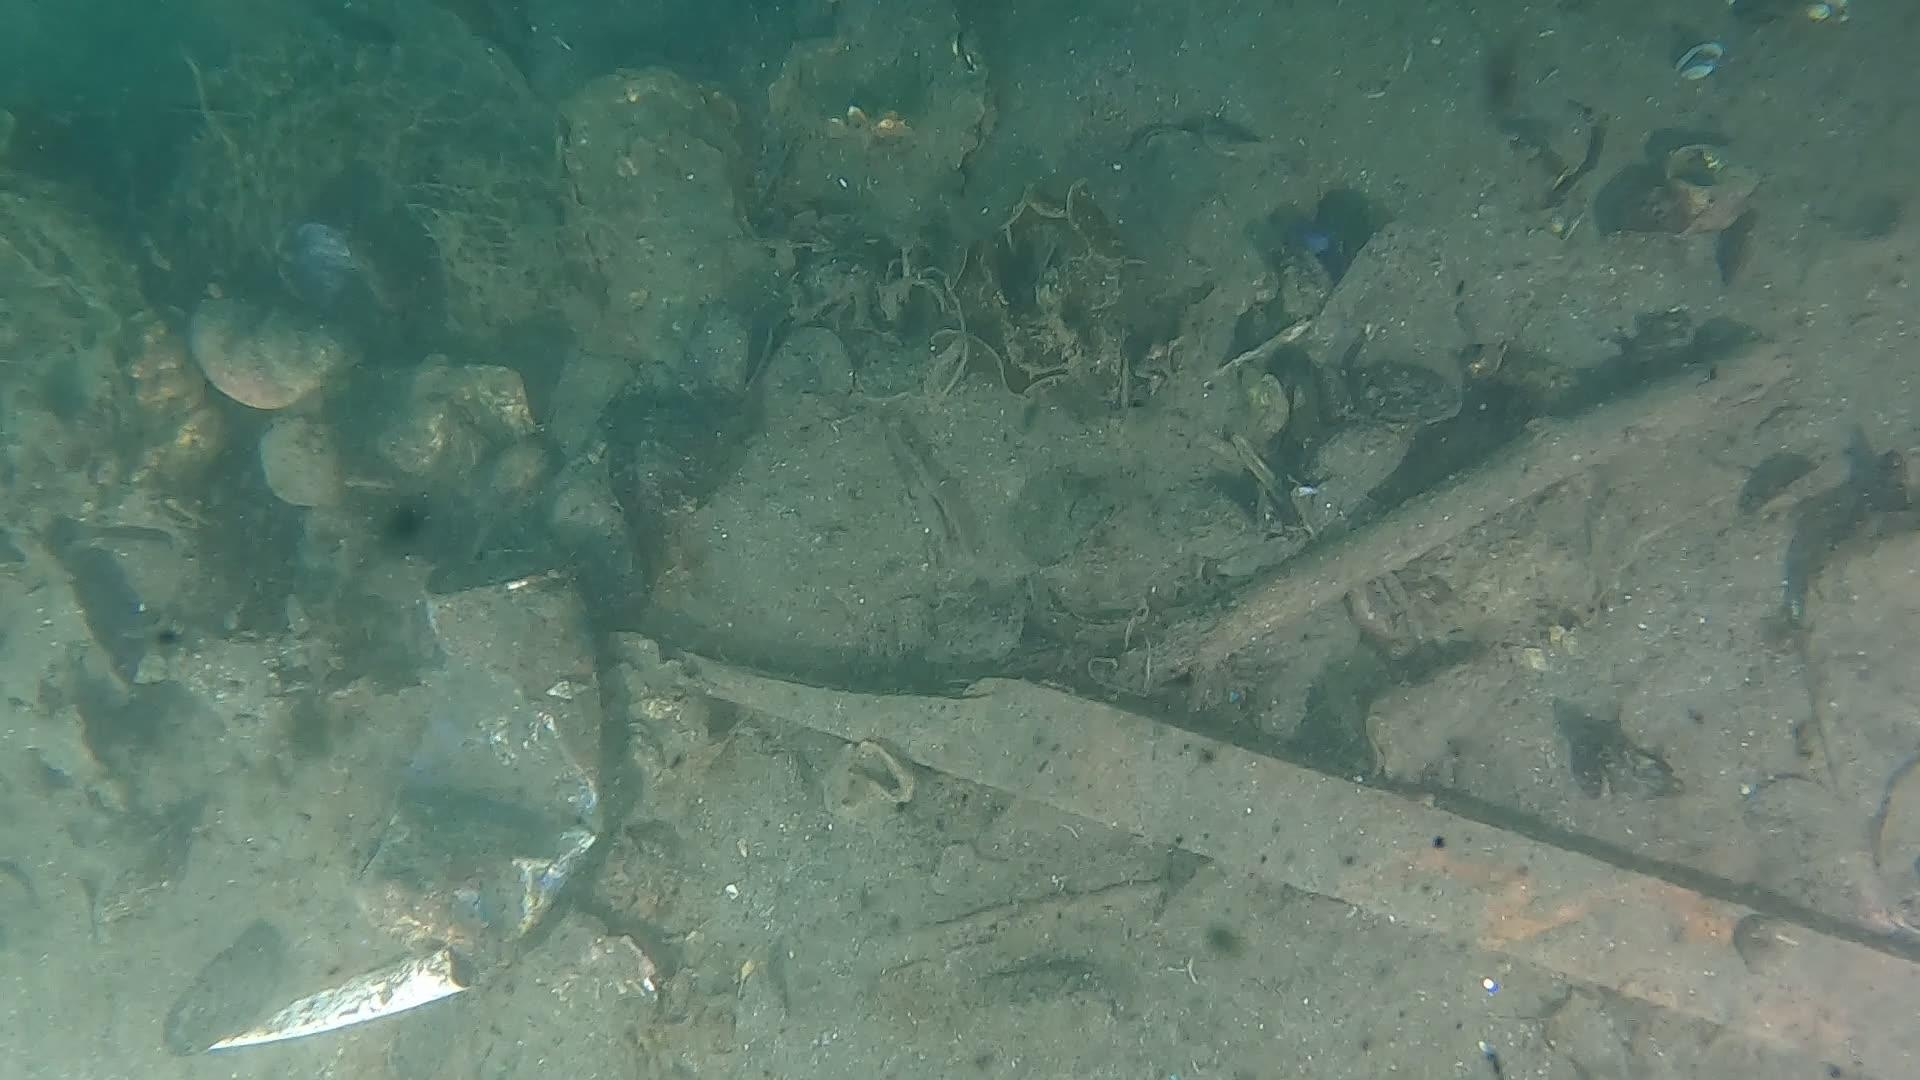wood: (684, 649, 1920, 1077)
